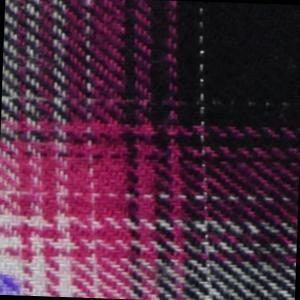Stain: (1, 269, 29, 296)
